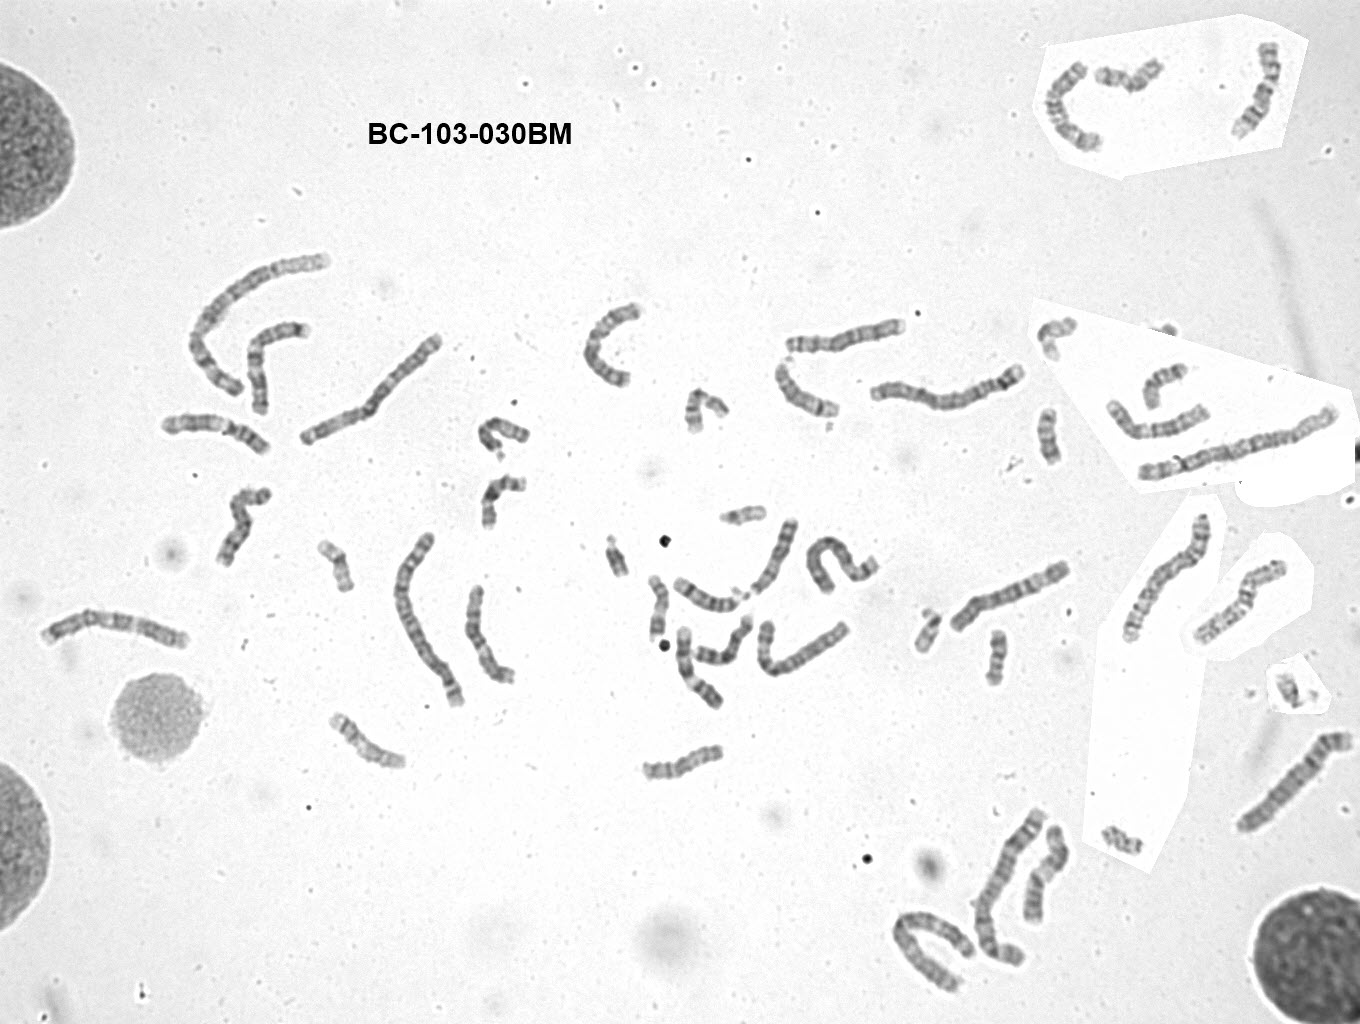chromosomes: (183, 246, 335, 401), (1135, 398, 1347, 490), (292, 330, 450, 450), (1229, 719, 1358, 848), (1112, 511, 1223, 651), (390, 528, 471, 711), (977, 807, 1056, 975), (948, 558, 1084, 635), (882, 902, 986, 996), (1194, 558, 1295, 649), (867, 362, 1031, 416), (35, 608, 203, 659), (1036, 51, 1105, 162), (244, 316, 317, 421), (1226, 35, 1288, 152), (772, 314, 916, 360), (464, 580, 522, 693), (578, 299, 647, 393), (1018, 822, 1074, 931), (757, 615, 855, 677), (320, 708, 407, 774), (214, 485, 280, 571), (776, 350, 846, 428), (676, 618, 733, 713), (799, 531, 883, 595), (160, 412, 271, 459), (747, 514, 806, 602), (626, 742, 729, 786), (1103, 399, 1212, 440), (1083, 55, 1175, 98), (689, 611, 755, 671), (472, 413, 539, 471), (644, 572, 683, 660), (1139, 359, 1196, 415), (481, 474, 532, 534), (684, 381, 734, 439), (1035, 310, 1082, 367), (674, 578, 748, 612), (313, 537, 355, 597), (1032, 402, 1068, 473), (717, 499, 773, 536), (603, 531, 635, 591), (1101, 825, 1149, 861), (913, 602, 944, 656), (986, 625, 1011, 688), (1278, 668, 1303, 713)
